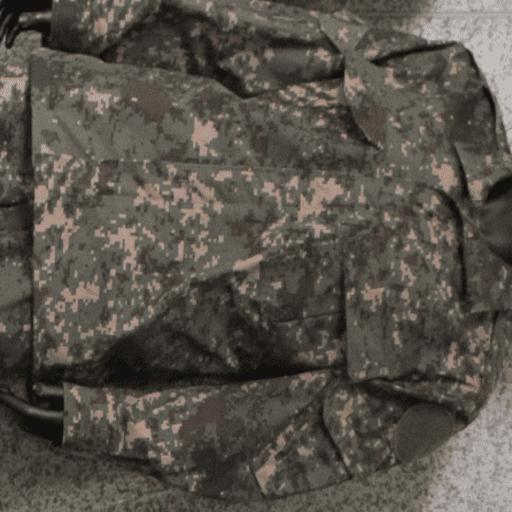korea army: (1, 0, 510, 503)
